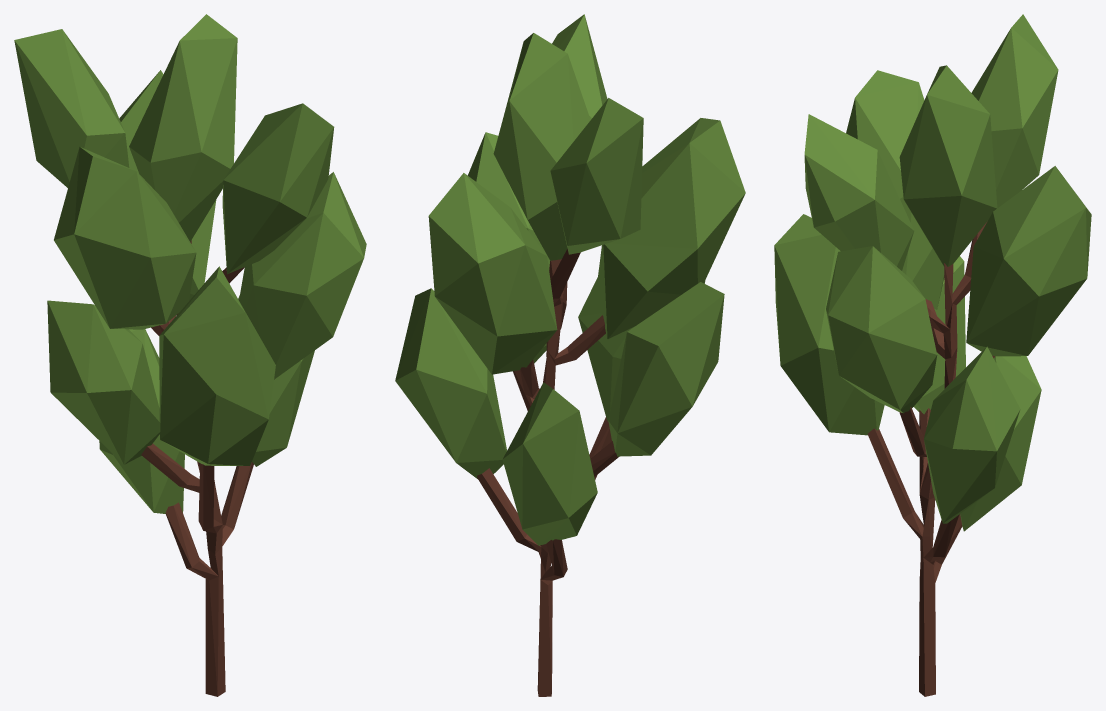
The model's file is SM_RF_AshTree_01.fbx.
The picture shows the model from 3 angles, left to right: view 1: azimuth 30°, elevation 25°; view 2: azimuth 150°, elevation 25°; view 3: azimuth 270°, elevation 25°; orthographic projection. The views are drawn at different scales.
Visible parts, largest first — view 1: SM_RF_AshTree_01; view 2: SM_RF_AshTree_01; view 3: SM_RF_AshTree_01.
Boxes of the visible parts, x1,y1,x2,y2 form: SM_RF_AshTree_01: [14, 14, 366, 696]; SM_RF_AshTree_01: [395, 14, 745, 696]; SM_RF_AshTree_01: [774, 14, 1091, 696].
Size of the model in its own units: 145 by 318 by 145.
